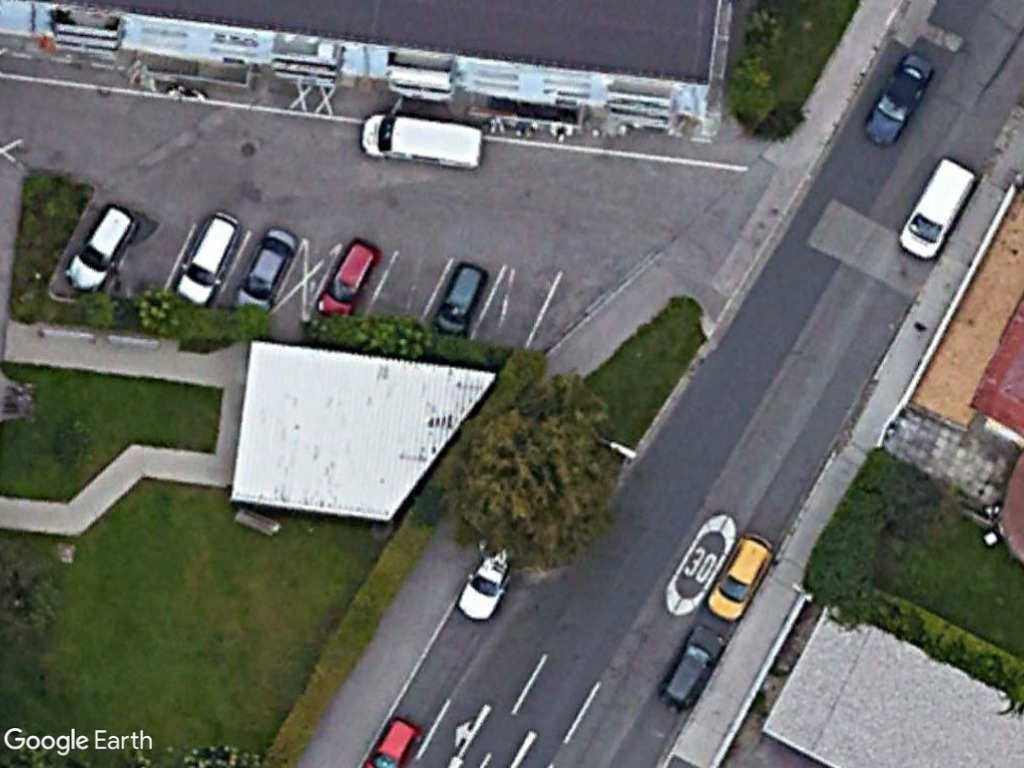car: (58, 197, 138, 295), (858, 52, 938, 148), (169, 210, 243, 310), (704, 528, 776, 625), (658, 620, 729, 710), (311, 237, 381, 323), (428, 258, 489, 338), (238, 223, 298, 303)
van: (895, 155, 980, 263), (358, 112, 487, 170)
